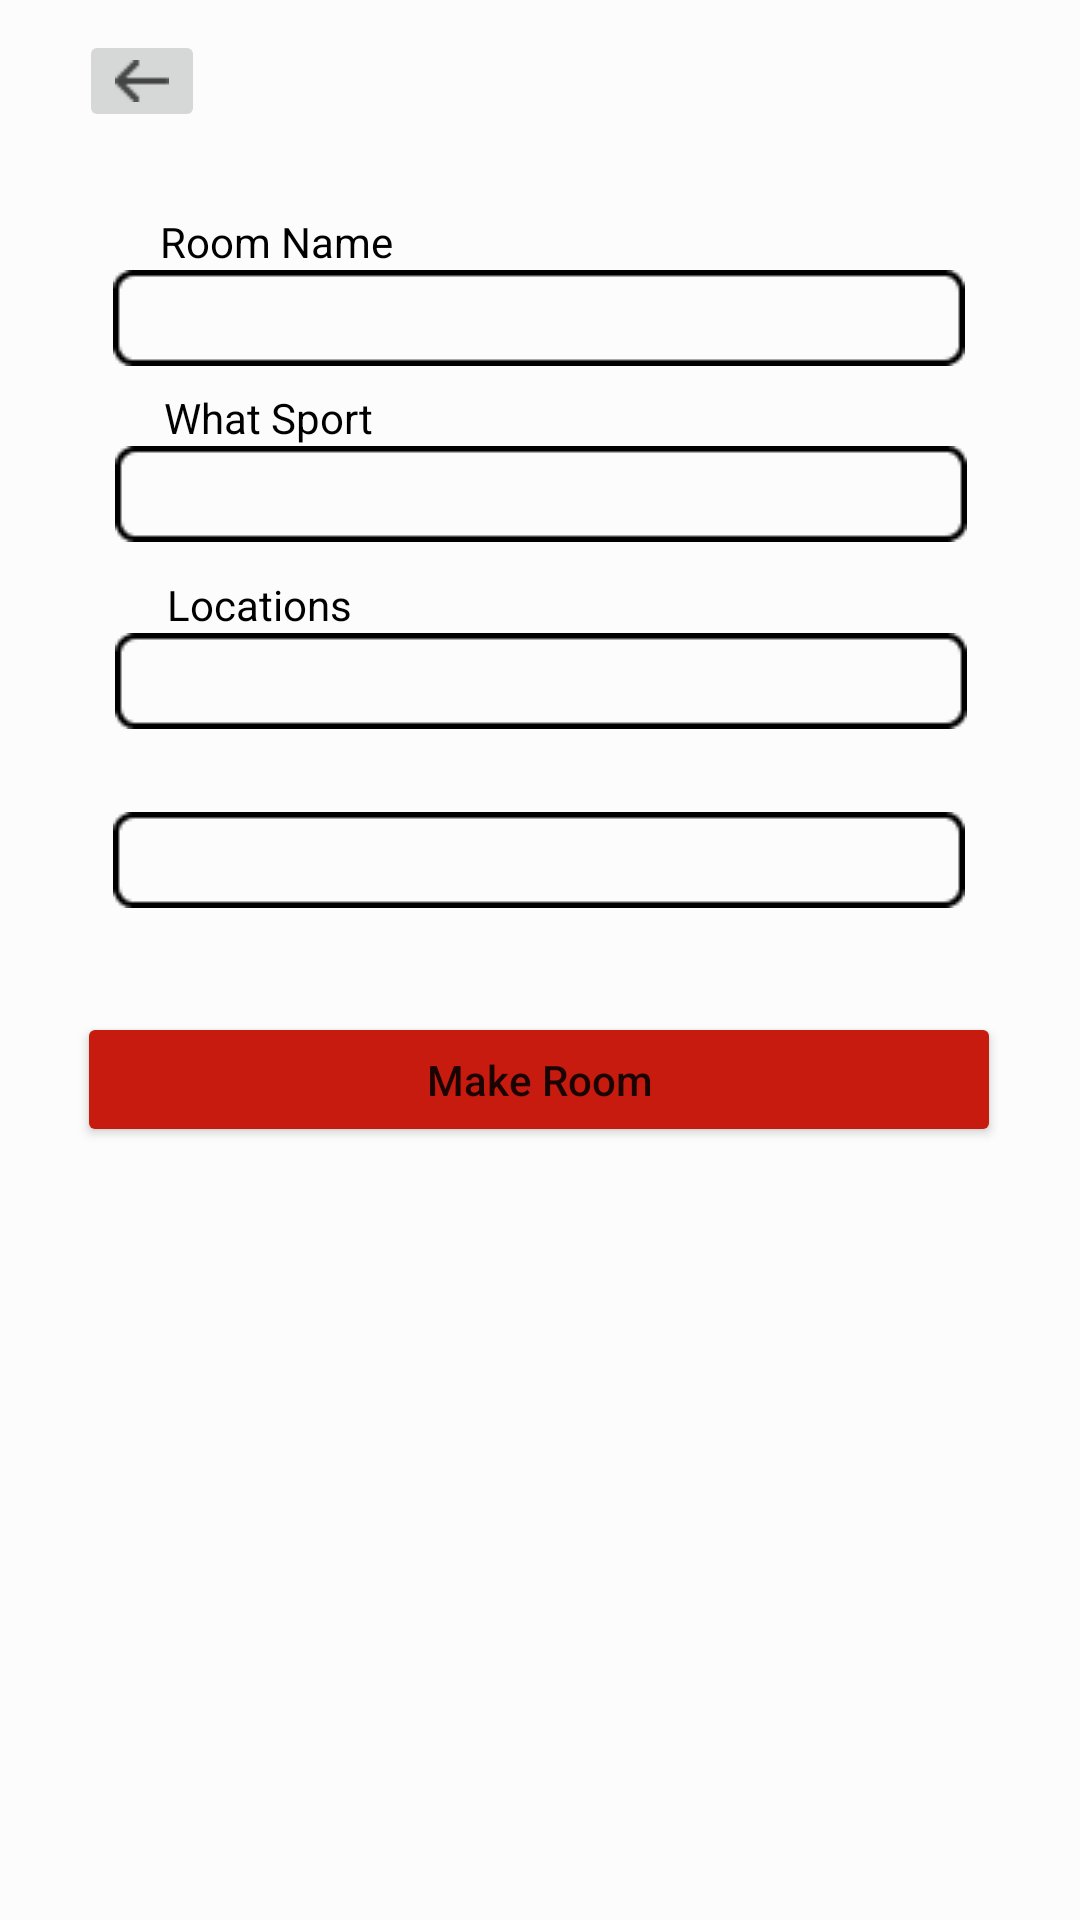

Icons on this 1080*1920 Android screen, each with the point to tap as (x,y):
arrow: (142,81)
